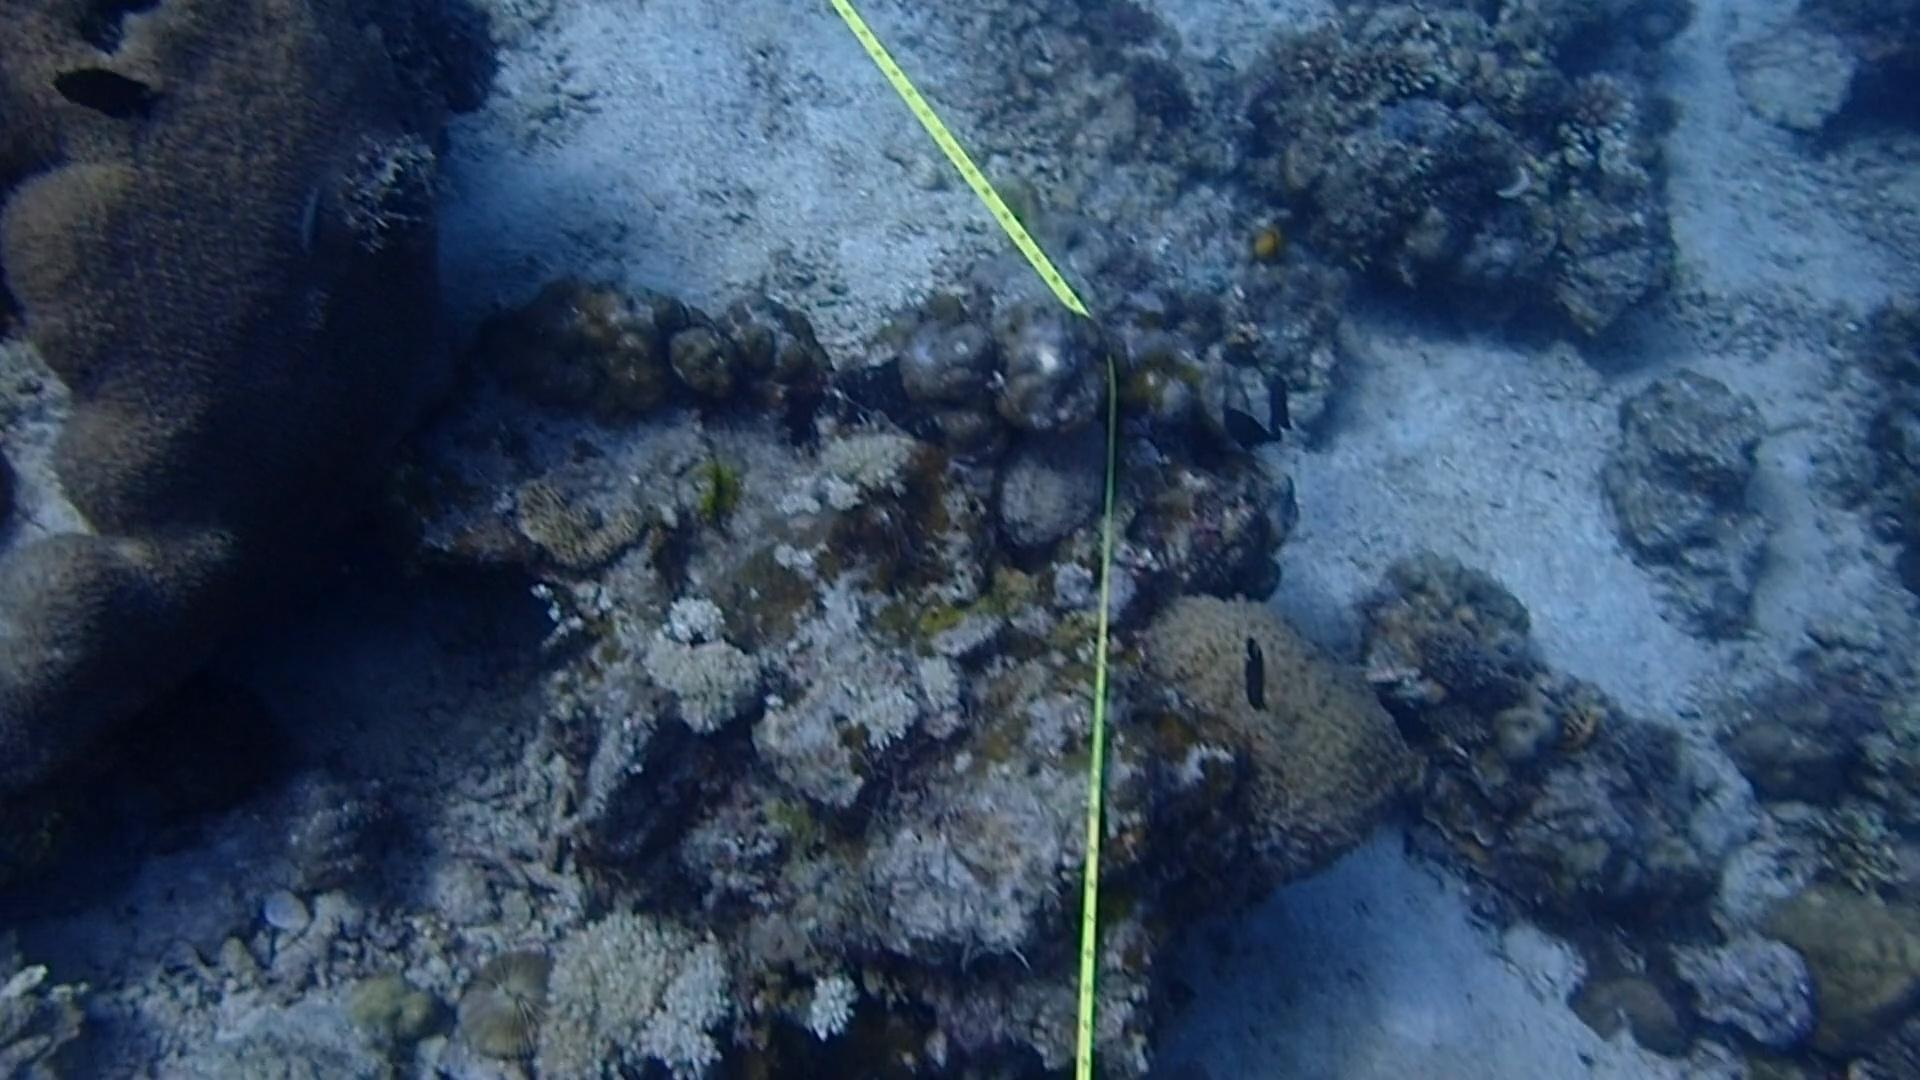Dark Fish: (45, 45, 170, 135), (1370, 669, 1449, 770), (1225, 630, 1287, 728), (1257, 365, 1305, 447), (1216, 396, 1273, 463)
